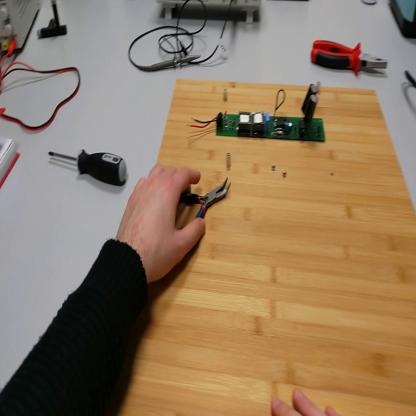hand: (117, 163, 207, 286), (272, 386, 340, 416)
high voltage board: (184, 83, 327, 143)
oscilloscope: (160, 4, 263, 25)
oscilloscope probe tip: (149, 51, 201, 78)
pliers: (310, 36, 390, 80), (176, 181, 230, 236)
power supply: (2, 4, 42, 56)
register: (2, 132, 21, 191)
screwdriver-: (47, 149, 128, 188)
welder station: (392, 2, 416, 37)
working area: (117, 78, 416, 416)
